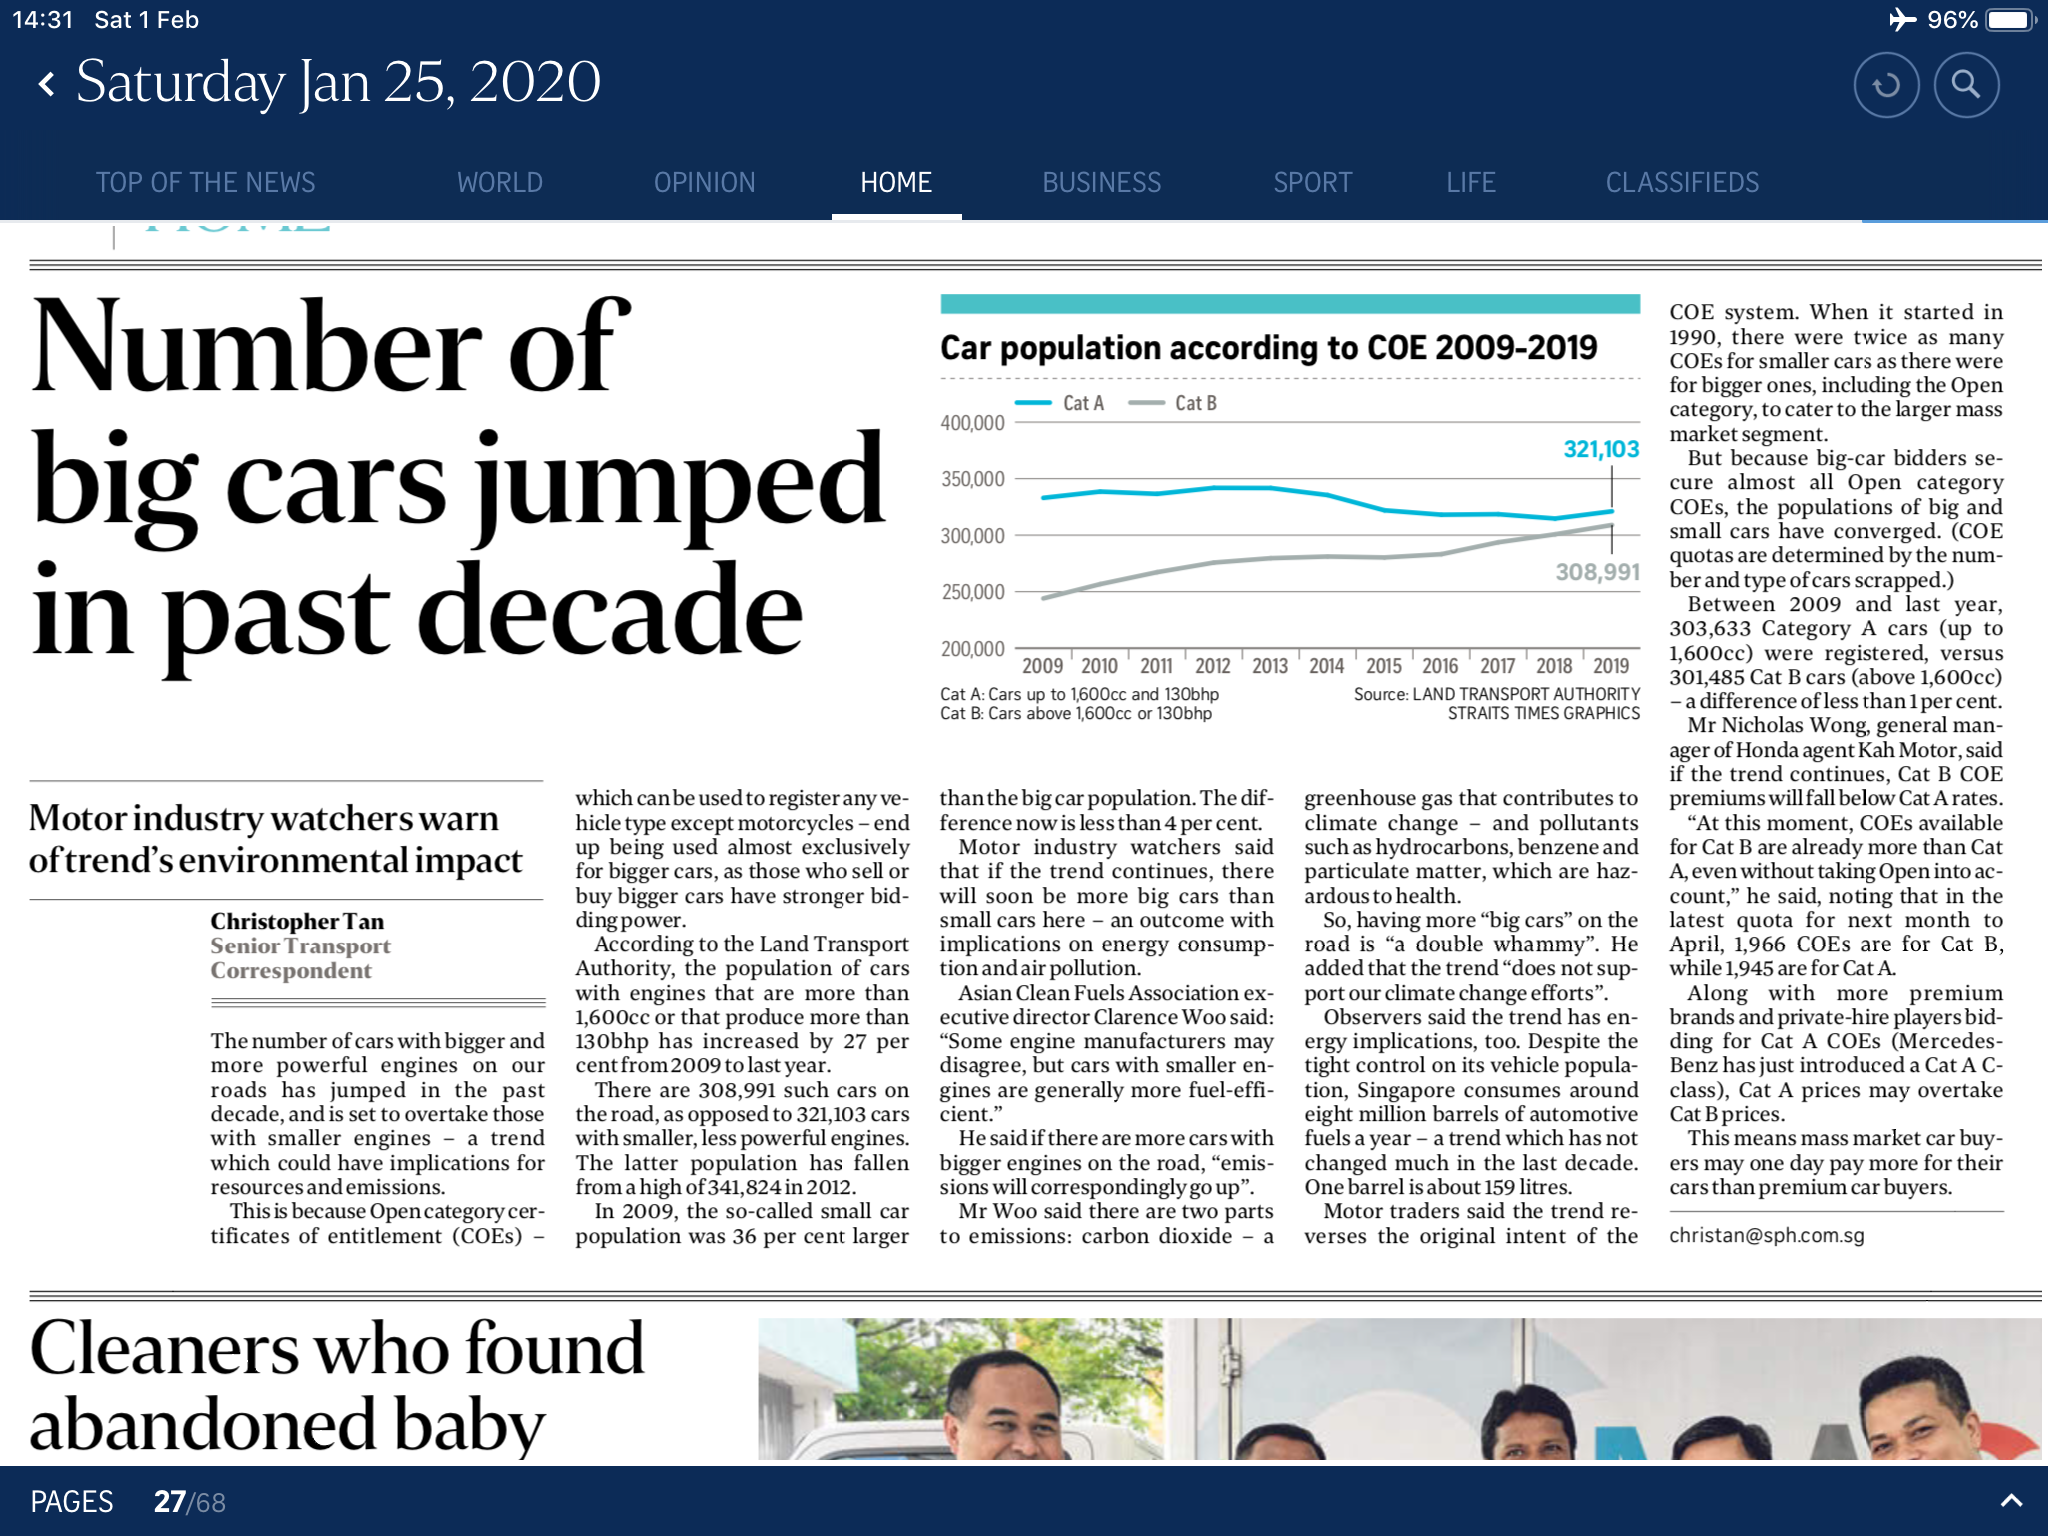Byline: (210, 908, 400, 983)
Headline: (29, 290, 885, 657), (27, 1312, 647, 1459)
Illustration: (935, 686, 1638, 728)
Image: (939, 294, 1643, 674), (756, 1318, 2042, 1465)
Text: (1669, 300, 2001, 1202), (574, 787, 916, 1250), (937, 784, 1279, 1247), (1301, 786, 1643, 1249), (210, 1028, 545, 1246)
